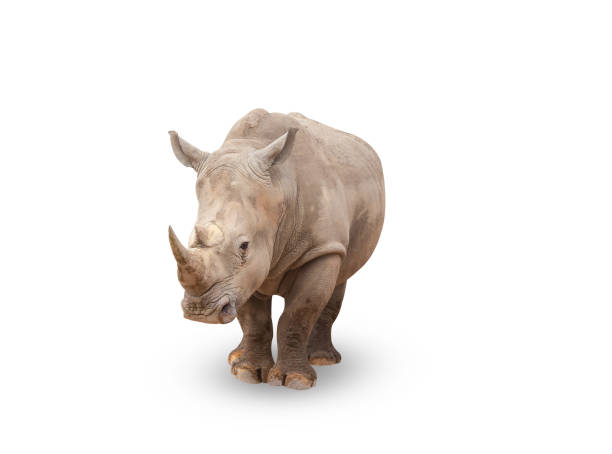rhino: (120, 121, 308, 337)
